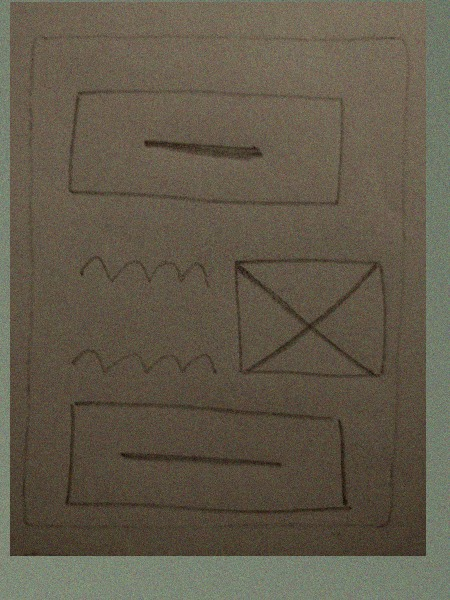button: (63, 389, 358, 521), (63, 79, 348, 212)
image: (226, 249, 391, 385)
text: (65, 242, 215, 300), (69, 340, 218, 388)
